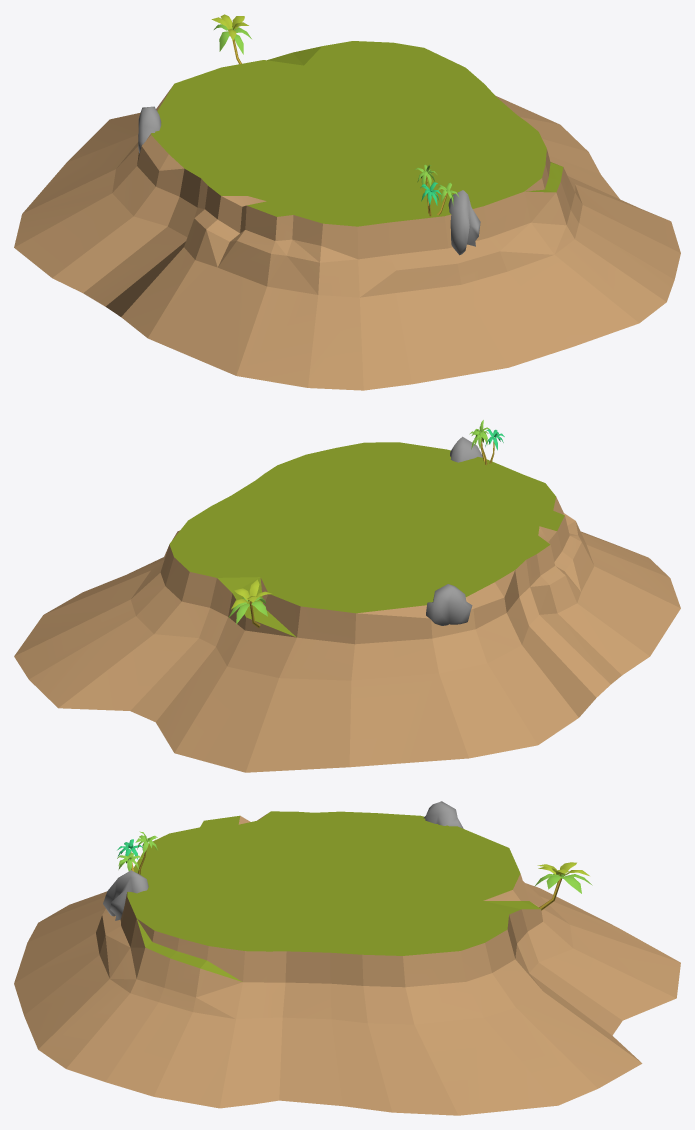
The model's file is islands_08.FBX.
3 renders of one model, top to bottom at view 1: azimuth 30°, elevation 25°; view 2: azimuth 150°, elevation 25°; view 3: azimuth 270°, elevation 25°, orthographic. The views are drawn at different scales.
Visible parts, largest first — view 1: Islands_08; view 2: Islands_08; view 3: Islands_08.
Boxes of the visible parts, left/top/right/bottom form: Islands_08: left=14, top=14, right=680, bottom=390; Islands_08: left=14, top=420, right=680, bottom=772; Islands_08: left=14, top=801, right=680, bottom=1115.
Bounding box in the file's own units: 9530 × 2646 × 10849.
